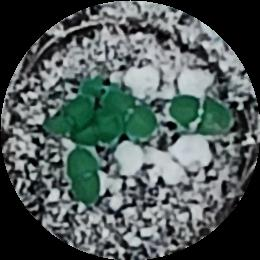Basil: (169, 93, 232, 139), (103, 91, 155, 140), (61, 146, 98, 207), (41, 97, 90, 139), (82, 114, 126, 147)
